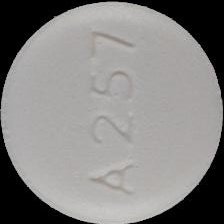10370-257: (0, 0, 224, 224)
